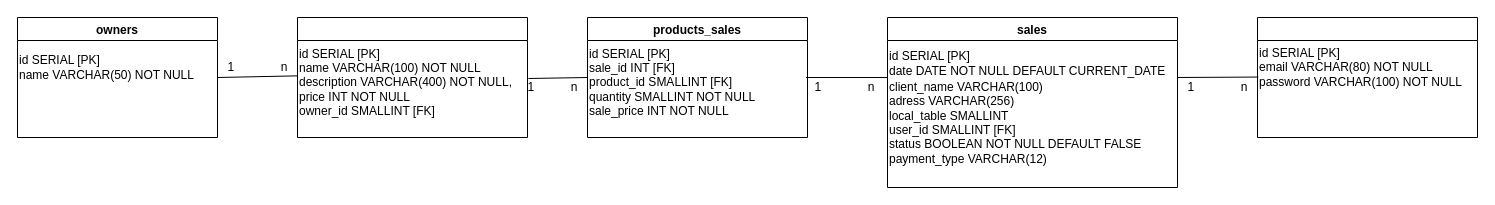
Image size: 1495x205. Some labels were removed from this diagram. The box of each missing label's shape, as (x1, y1, x2, y2) in pixels:
products: (296, 16, 528, 138)
users: (1256, 16, 1478, 138)
